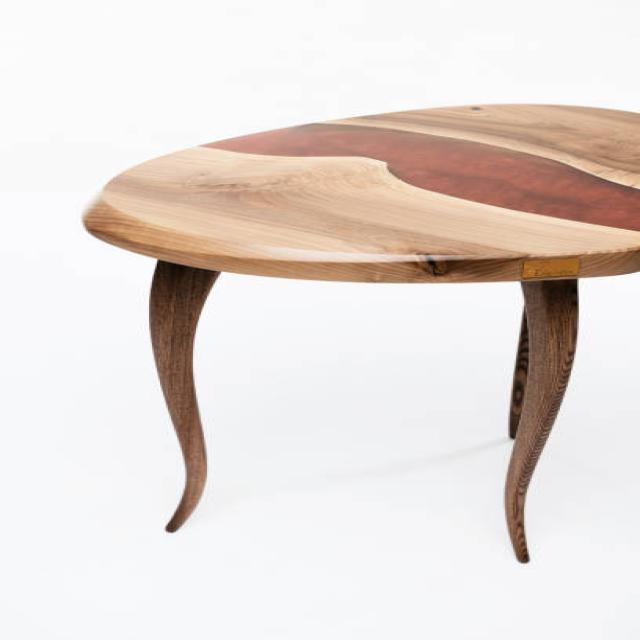table: (80, 102, 638, 562)
